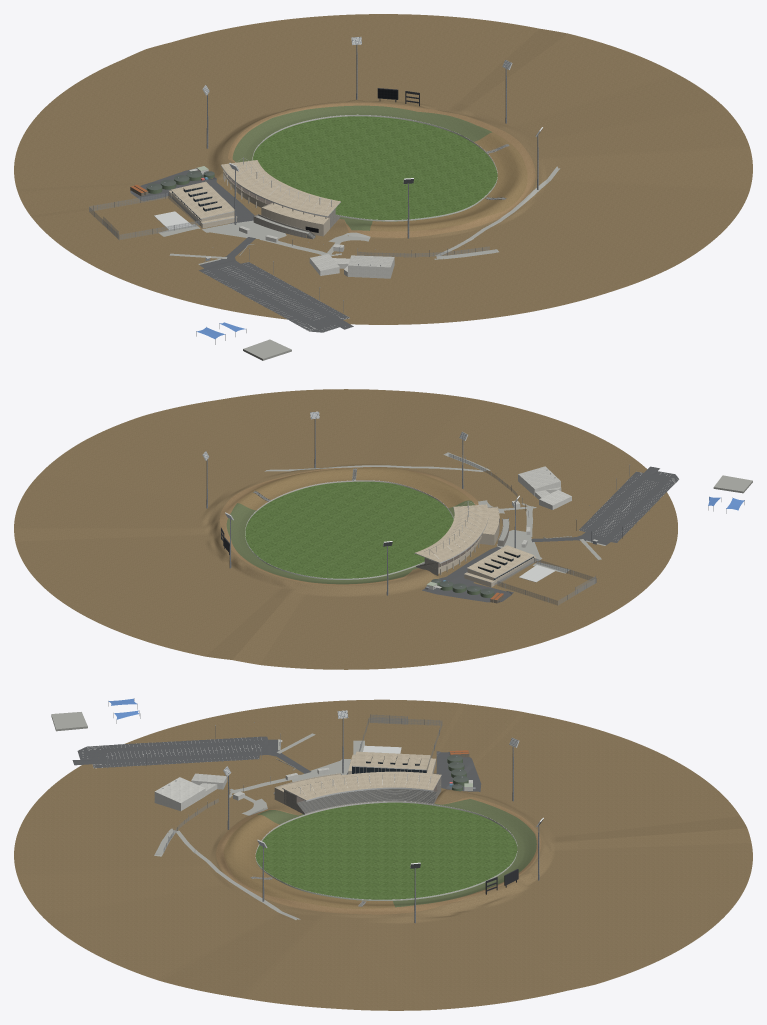
File: blacktown.glb
3 views of the same model, one above another, from view 1: azimuth 30°, elevation 25°; view 2: azimuth 150°, elevation 25°; view 3: azimuth 270°, elevation 25° (orthographic). The views are drawn at different scales.
Parts seen in each view (by area): view 1: concourse_far, concourse, outside_far, detail_outer_far, detail_far, surfaces_far, detail, roofs, towers, fence; view 2: concourse_far, concourse, outside_far, detail_outer_far, detail_far, surfaces_far, roofs, detail, towers, fence; view 3: concourse_far, concourse, outside_far, detail_far, detail_outer_far, roofs, surfaces_far, stands, fence, towers, detail.
Boxes of the visible parts, <box> form: concourse_far: <box>14,14,752,324</box>; concourse: <box>228,102,535,237</box>; outside_far: <box>130,92,558,260</box>; detail_outer_far: <box>89,166,394,344</box>; detail_far: <box>169,166,560,360</box>; surfaces_far: <box>130,168,489,257</box>; detail: <box>223,88,509,239</box>; roofs: <box>221,160,340,217</box>; towers: <box>202,37,542,238</box>; fence: <box>252,114,497,221</box>; concourse_far: <box>14,389,677,669</box>; concourse: <box>219,467,478,585</box>; outside_far: <box>190,459,549,604</box>; detail_outer_far: <box>425,466,744,605</box>; detail_far: <box>264,452,752,559</box>; surfaces_far: <box>422,453,569,602</box>; roofs: <box>414,504,488,563</box>; detail: <box>221,468,509,574</box>; towers: <box>202,411,519,595</box>; fence: <box>245,480,453,579</box>; concourse_far: <box>14,699,752,1010</box>; concourse: <box>216,797,541,914</box>; outside_far: <box>194,756,578,926</box>; detail_far: <box>51,712,315,919</box>; detail_outer_far: <box>108,698,475,811</box>; roofs: <box>282,771,441,801</box>; surfaces_far: <box>163,740,481,852</box>; stands: <box>284,777,441,814</box>; fence: <box>255,801,517,900</box>; towers: <box>223,710,543,923</box>; detail: <box>250,773,518,906</box>.
Bounding box in the file's own units: 480 × 45.25 × 480.
37 materials, 37 textured.
